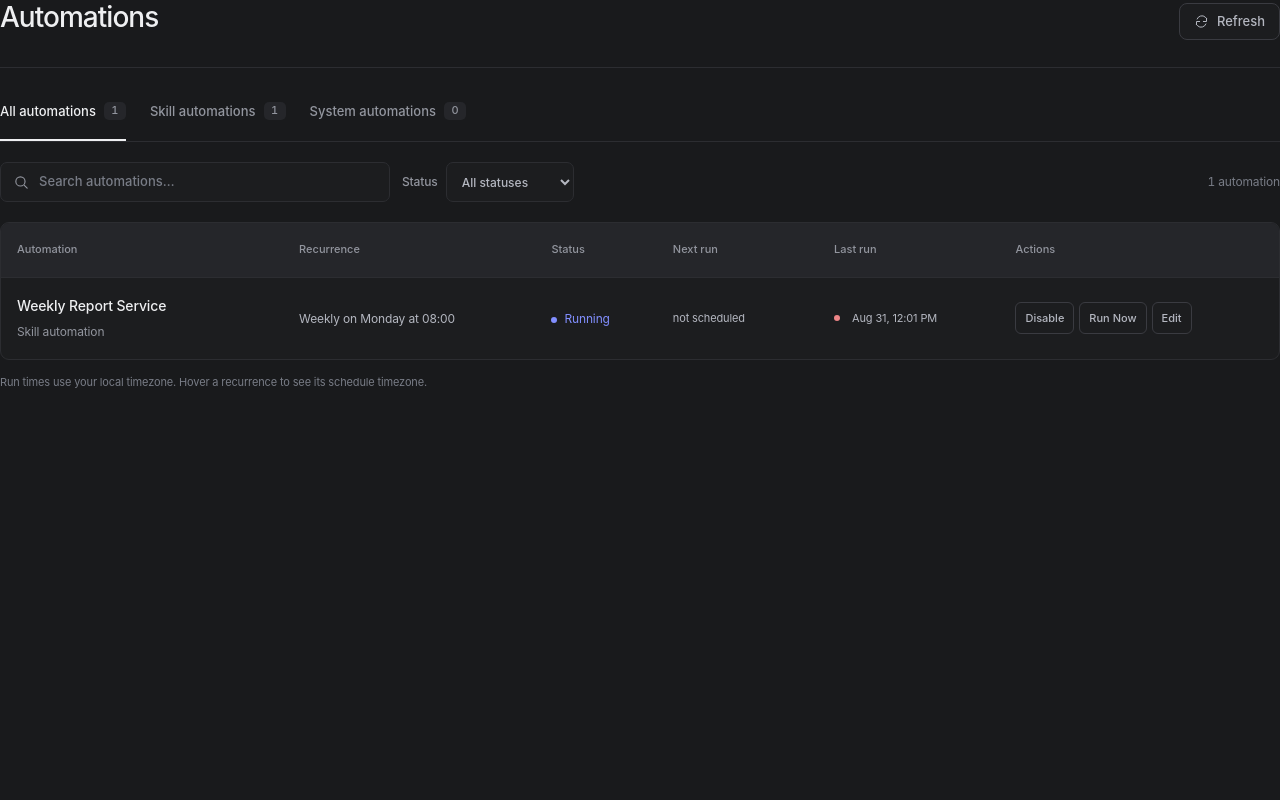
Test: AutomationsPage › shows the last-run status only as a tooltip dot before the timestamp
The width and height of the screenshot is (1280, 800).
Expected: the element named "Last run status: failed" is empty, [834,315,840,321]
Expected: the table named "Last run status: failed" is shown, [1,223,1279,359]
Click the button "Edit": (1172, 318) [1152,302,1192,334]
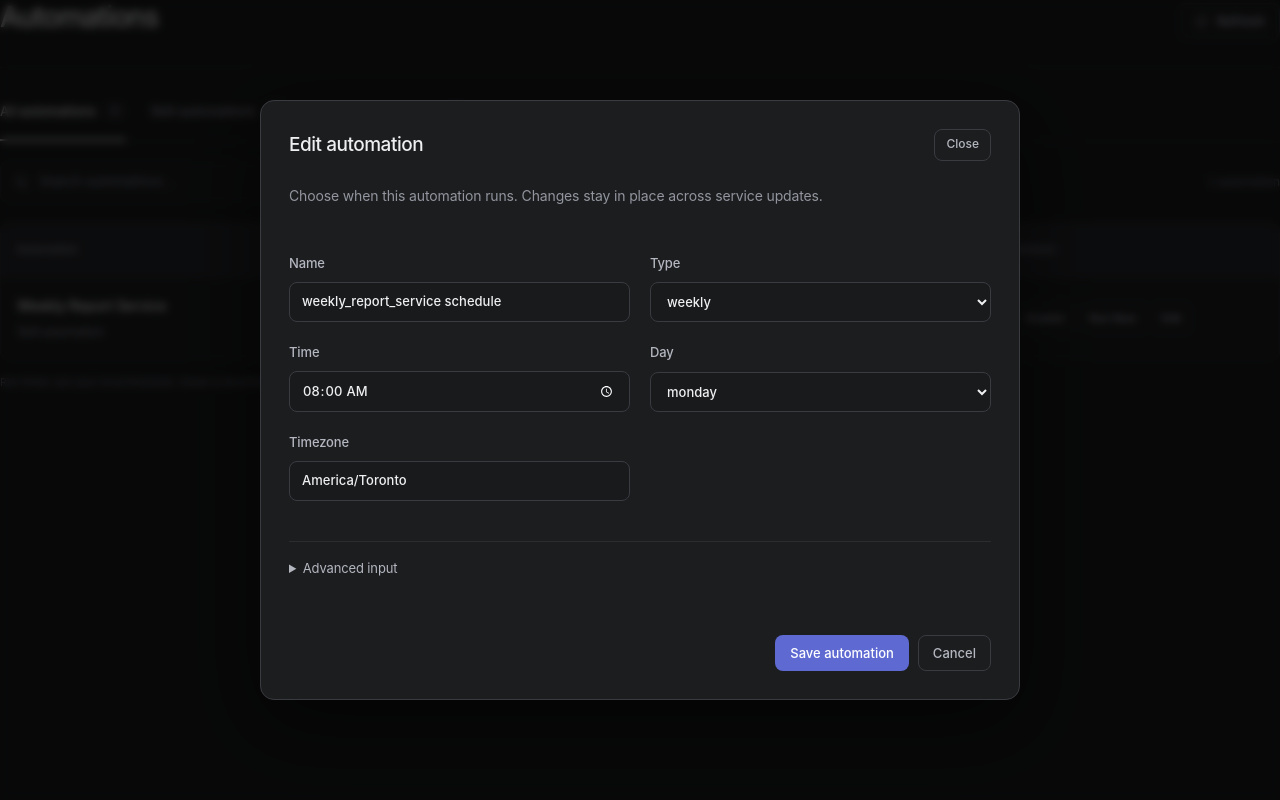
Expected: the form is shown, [289,185,991,671]
Click the button "Cancel": (954, 653) [918,635,991,671]
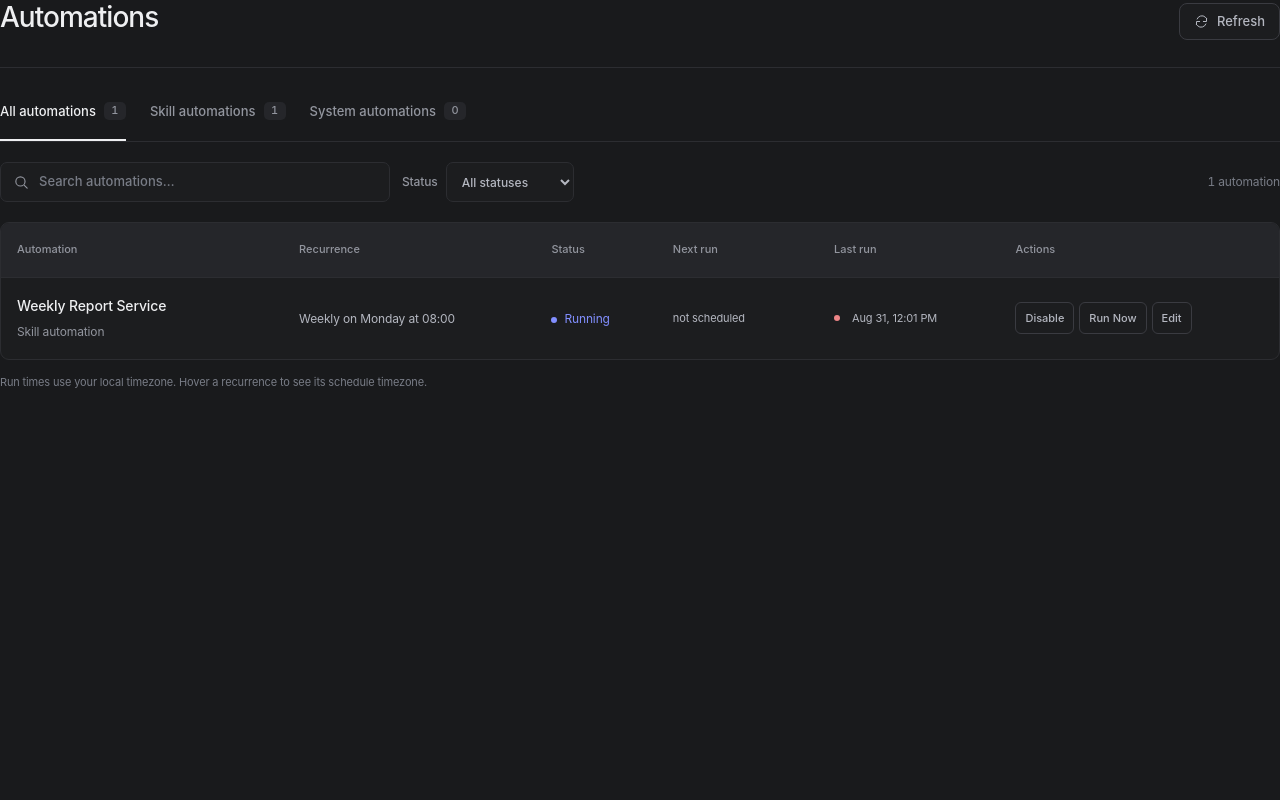
Expected: the dialog is gone
